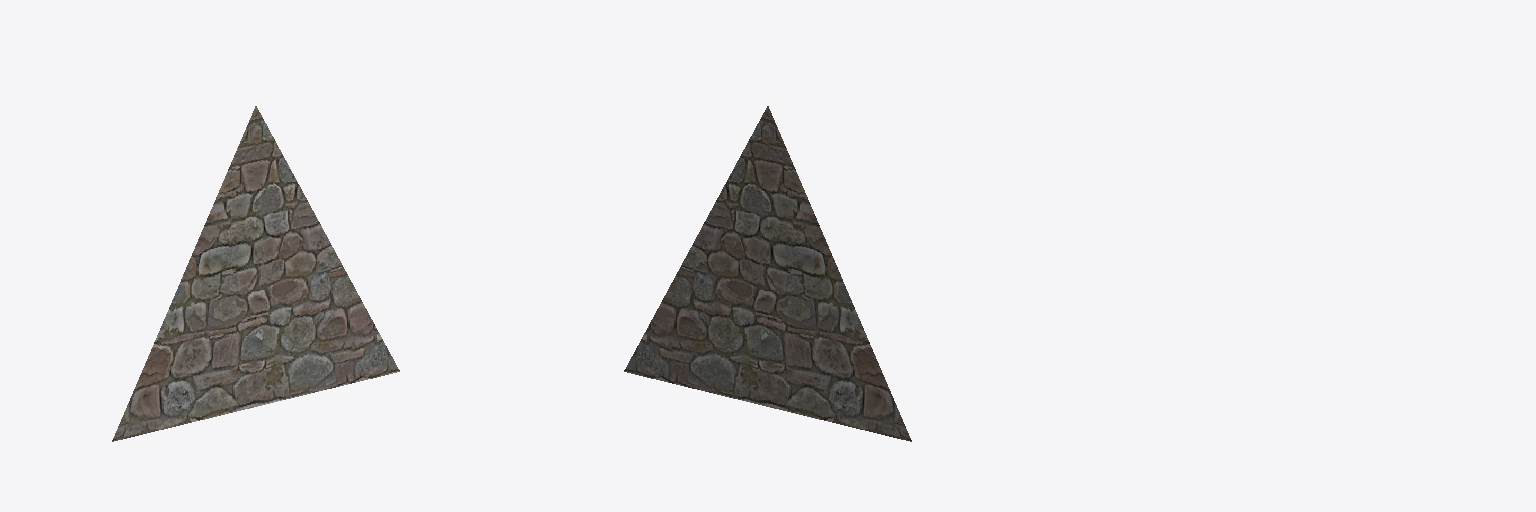
The picture shows the model from 3 angles: view 1: azimuth 30°, elevation 25°; view 2: azimuth 150°, elevation 25°; view 3: azimuth 270°, elevation 25°; orthographic projection.
Visible parts, largest first — view 1: 1; view 2: 1; view 3: none.
Boxes of the visible parts, <box> form: 1: <box>112,106,399,441</box>; 1: <box>624,106,911,441</box>.
Size of the model in its own units: 1 by 1 by 0.
1 materials, 1 textured.